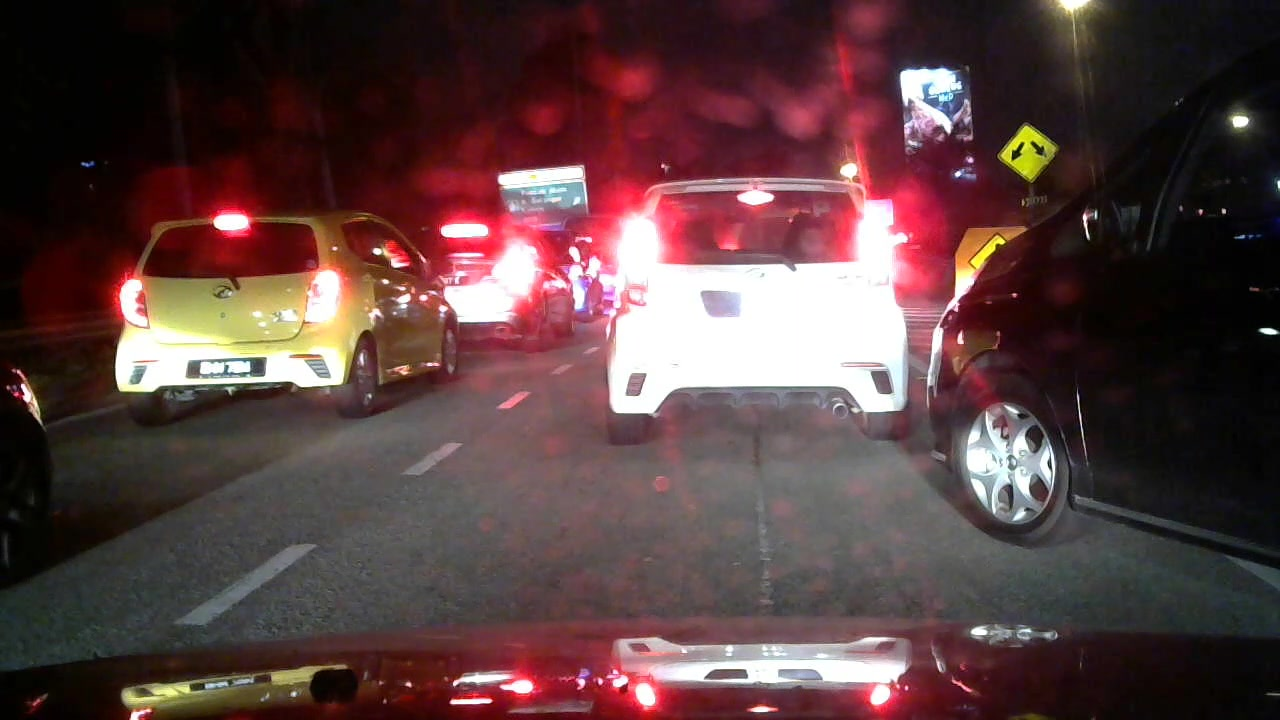Car: (919, 76, 1280, 536), (612, 165, 912, 442), (115, 201, 468, 421), (433, 203, 582, 367), (1, 321, 59, 539), (555, 238, 605, 324)
